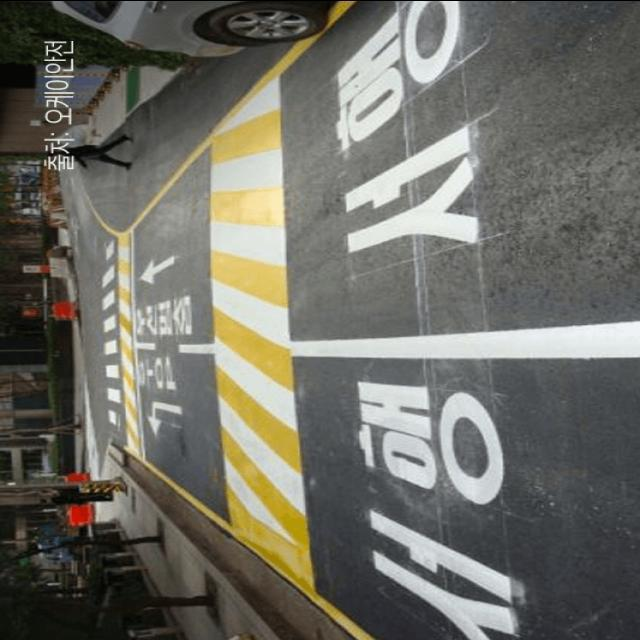speedbreaker: (195, 77, 307, 601)
